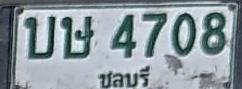0: (169, 12, 196, 57)
4: (111, 13, 136, 58)
7: (142, 12, 167, 57)
8: (201, 11, 226, 54)
A26: (24, 15, 56, 59)
A39: (60, 15, 94, 59)
CBI: (98, 65, 151, 89)
